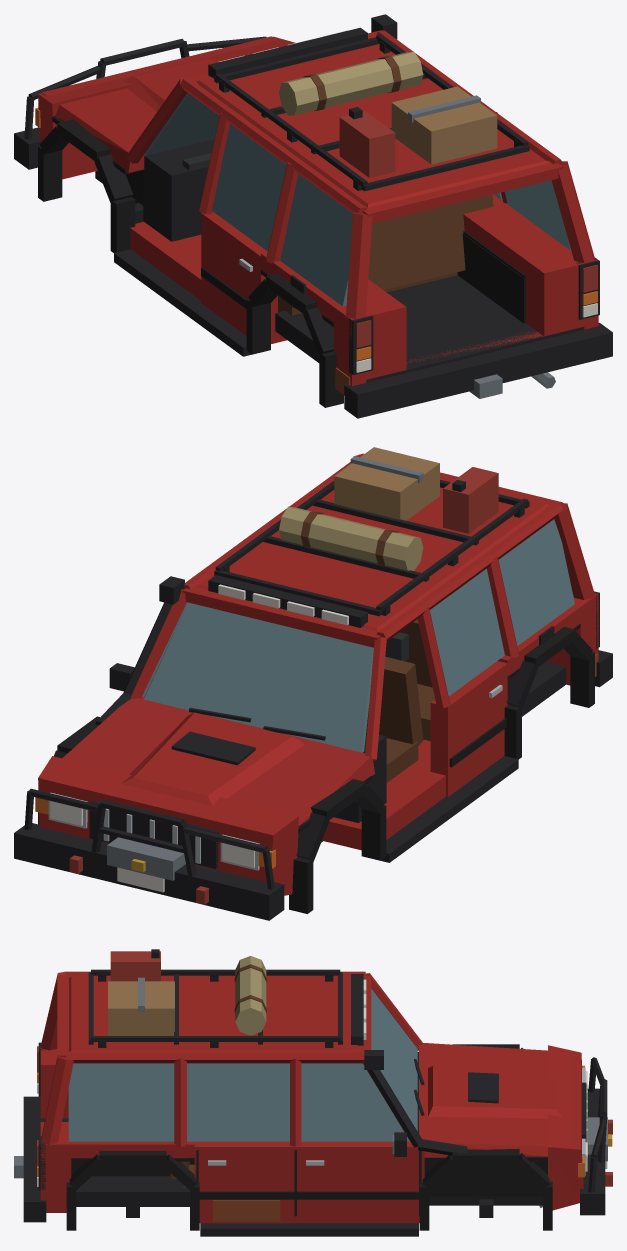
The model's file is car_hatchback_red.glb.
3 renders of one model, top to bottom at view 1: azimuth 30°, elevation 25°; view 2: azimuth 150°, elevation 25°; view 3: azimuth 270°, elevation 25°, orthographic. The views are drawn at different scales.
Parts seen in each view (by area): view 1: body; view 2: body; view 3: body.
Part boxes in pixels (left/top/right/bottom): body: left=14, top=14, right=612, bottom=418; body: left=14, top=447, right=612, bottom=920; body: left=14, top=949, right=612, bottom=1236.
Size of what is drawn, in the model's own units: 2 by 1.72 by 4.27.
2 materials, 2 textured.
